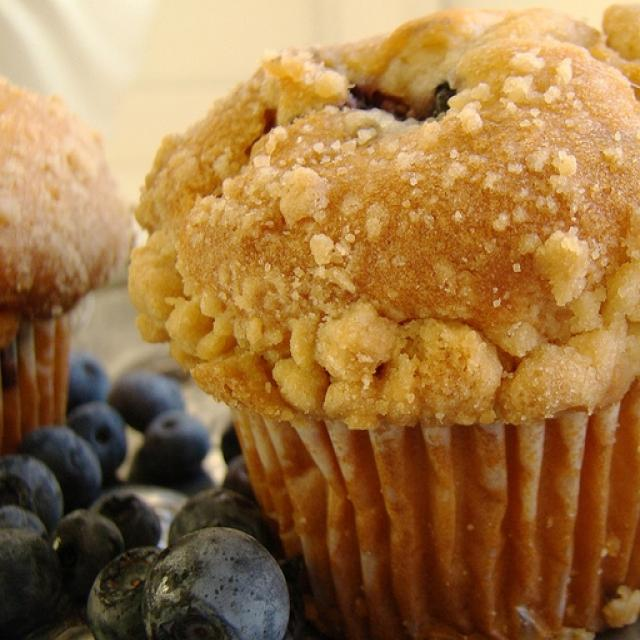炸货点心: (67, 5, 635, 615)
面包点心: (67, 5, 635, 615)
